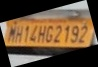character: (77, 24, 88, 43), (68, 24, 79, 42), (14, 25, 23, 44), (36, 25, 46, 42), (44, 25, 53, 43), (53, 24, 62, 42), (29, 25, 38, 42), (23, 25, 30, 43), (63, 25, 69, 42)
